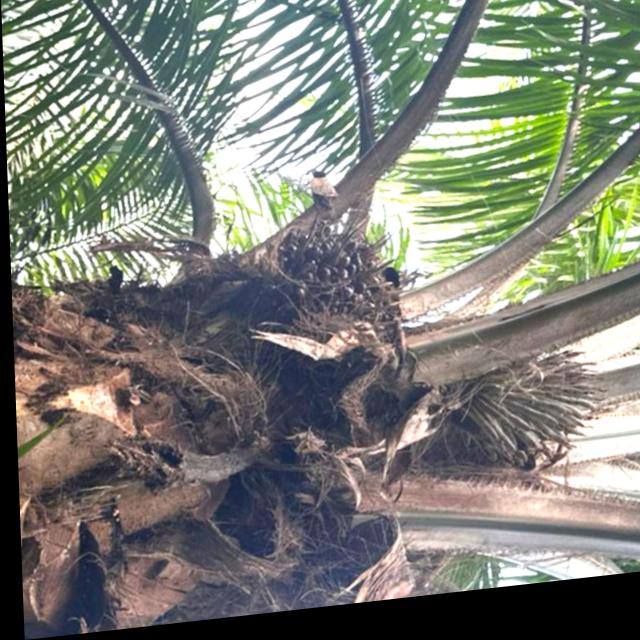ripe: (234, 203, 406, 349)
